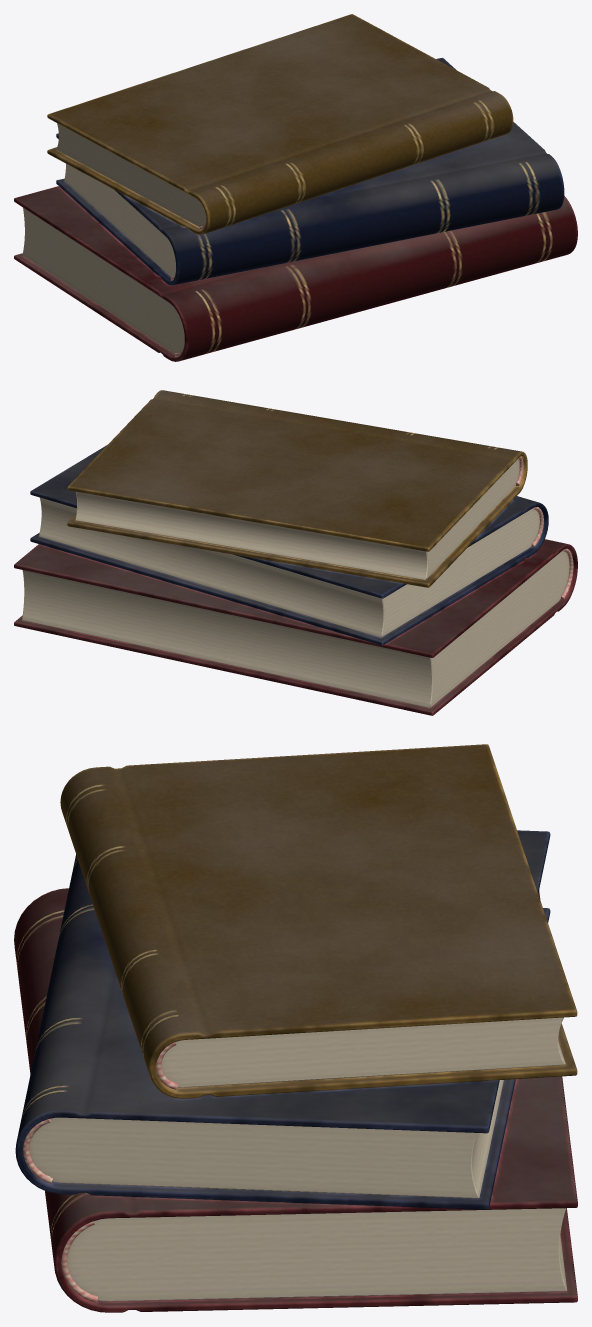
File: corner_books.glb
The picture shows the model from 3 angles, top to bottom: view 1: azimuth 30°, elevation 25°; view 2: azimuth 150°, elevation 25°; view 3: azimuth 270°, elevation 25°; orthographic projection. The views are drawn at different scales.
Parts seen in each view (by area): view 1: Books; view 2: Books; view 3: Books.
Boxes of the visible parts, box(x1,y1,x2,y2) form: Books: box(14, 14, 577, 361); Books: box(14, 390, 577, 715); Books: box(14, 744, 577, 1312).
Size of the model in its own units: 0.243 by 0.084 by 0.172.
1 material, 1 textured.
